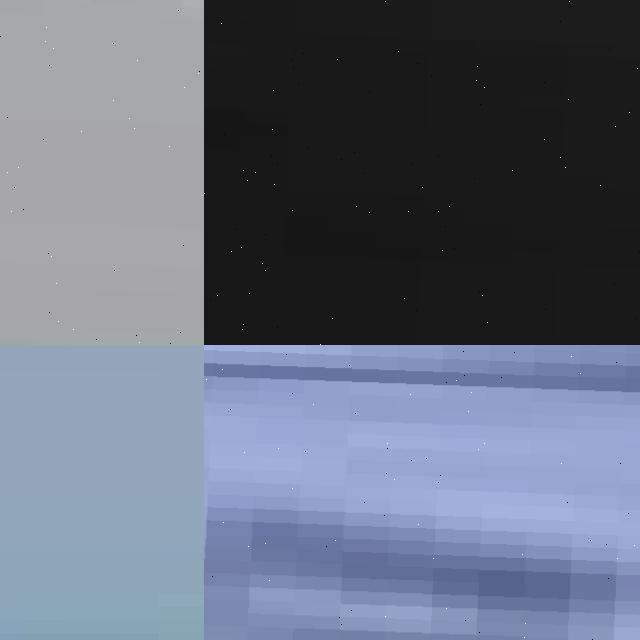street light: (204, 0, 640, 345), (204, 345, 640, 640), (0, 0, 204, 345)
